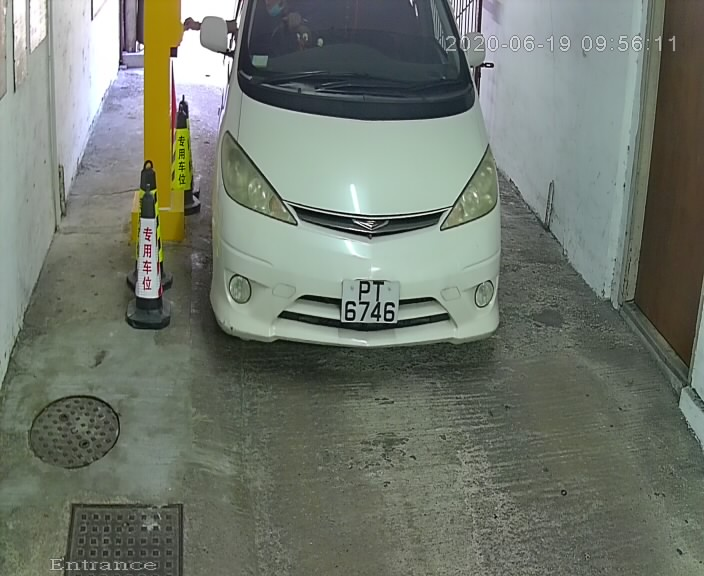privatecar: (184, 1, 528, 377)
